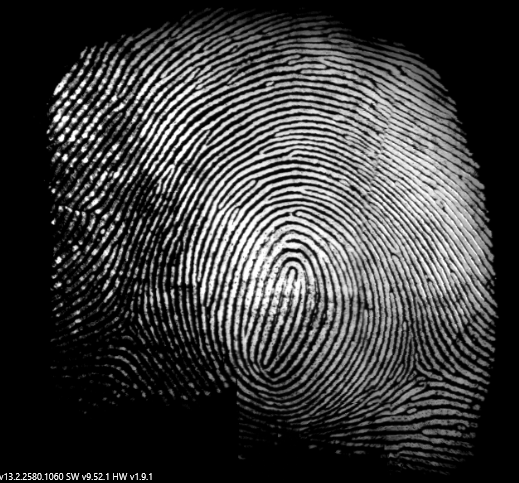deltas: (90, 291, 168, 353), (389, 327, 448, 400)
nucleo: (259, 245, 326, 324)
